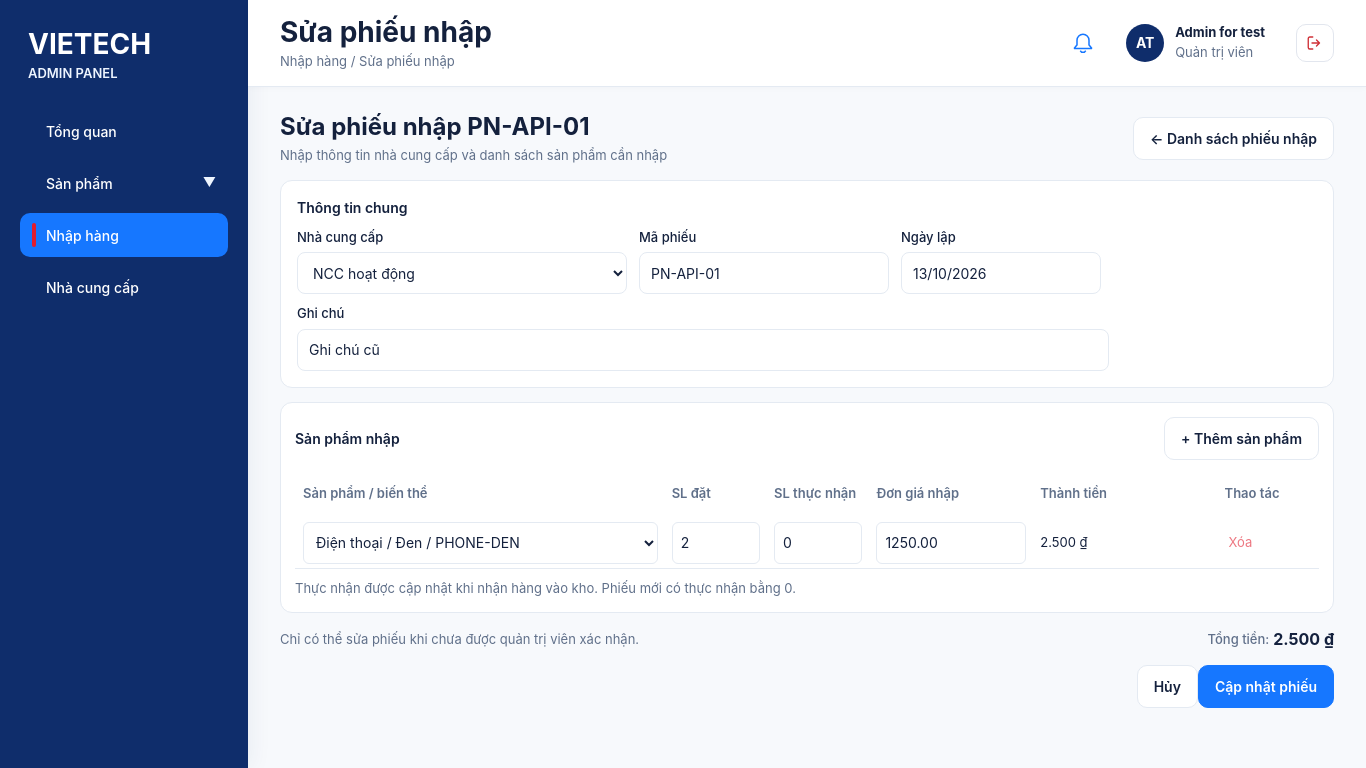
Test: edit uses the stored date; removing/replacing variants stays in the draft until the single update action
Expected: the button "Cập nhật phiếu" is enabled, [1198, 665, 1334, 708]
Expected: the field labelled "Ngày lập" holds "13/10/2026", [901, 252, 1101, 294]
Select "Điện thoại / Trắng / PHONE-TRANG" in the dropdown named "Sản phẩm / biến thể dòng 1" at point(480, 543), box [303, 522, 658, 564]
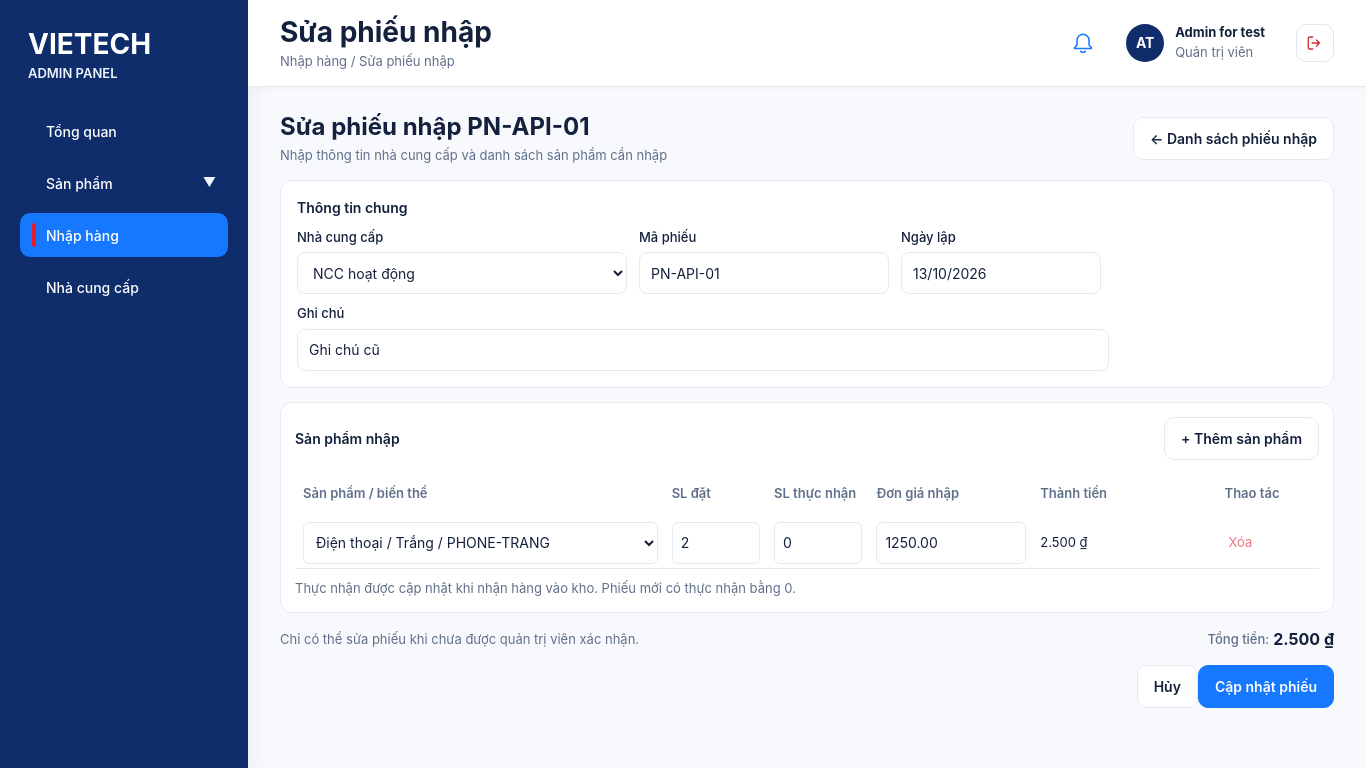
Replace the text in the number field named "Số lượng đặt dòng 1" with "1" at point(716, 543), box [672, 522, 760, 564]
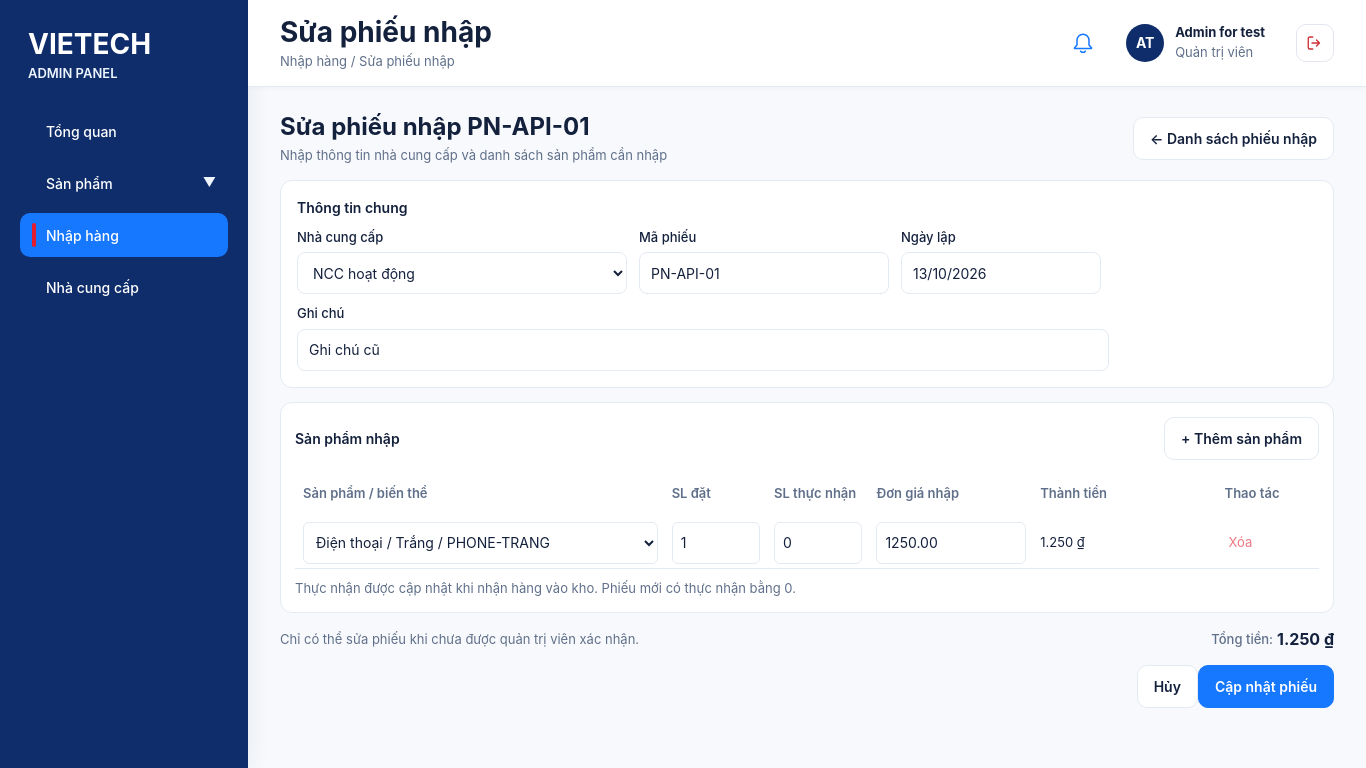
Replace the text in the number field named "Đơn giá nhập dòng 1" with "3200" at point(951, 543), box [876, 522, 1026, 564]
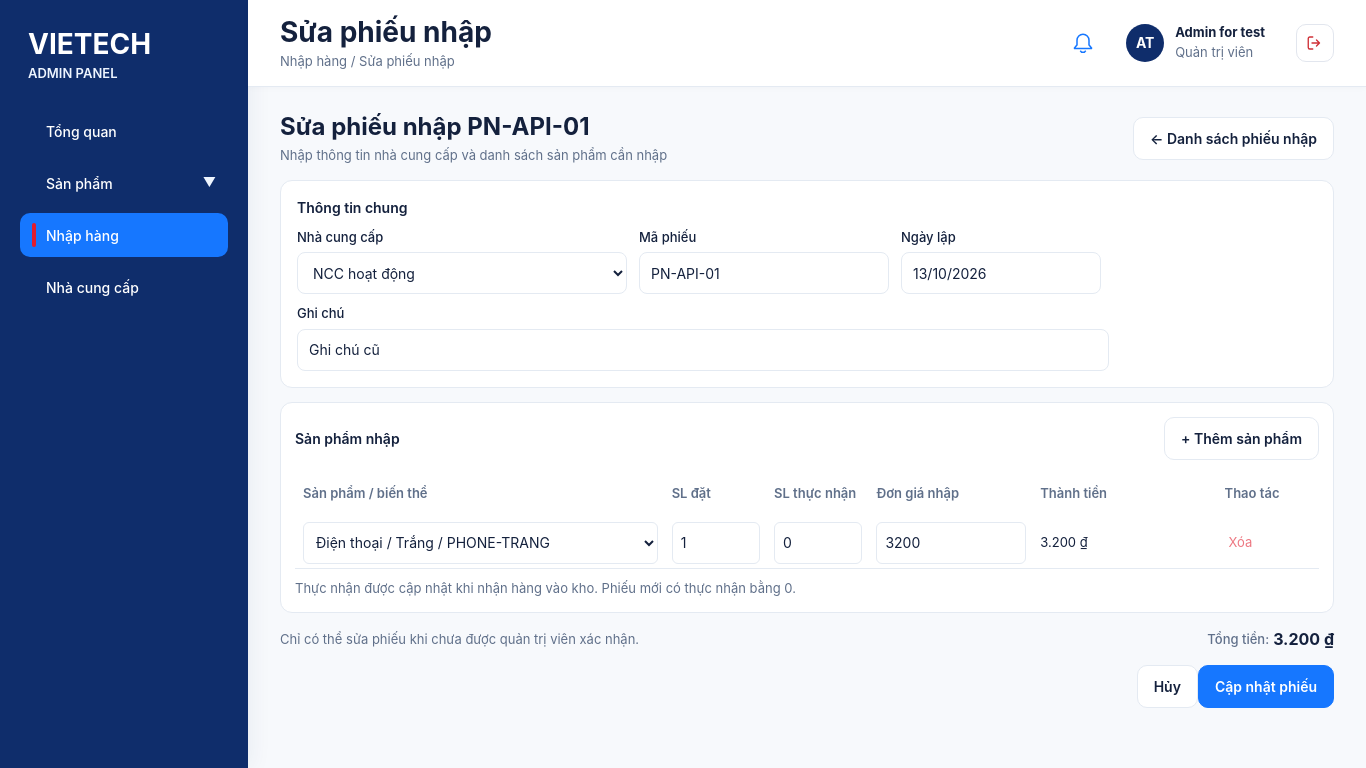
Click the button "Cập nhật phiếu".
click(1266, 687)  # box [1198, 665, 1334, 708]
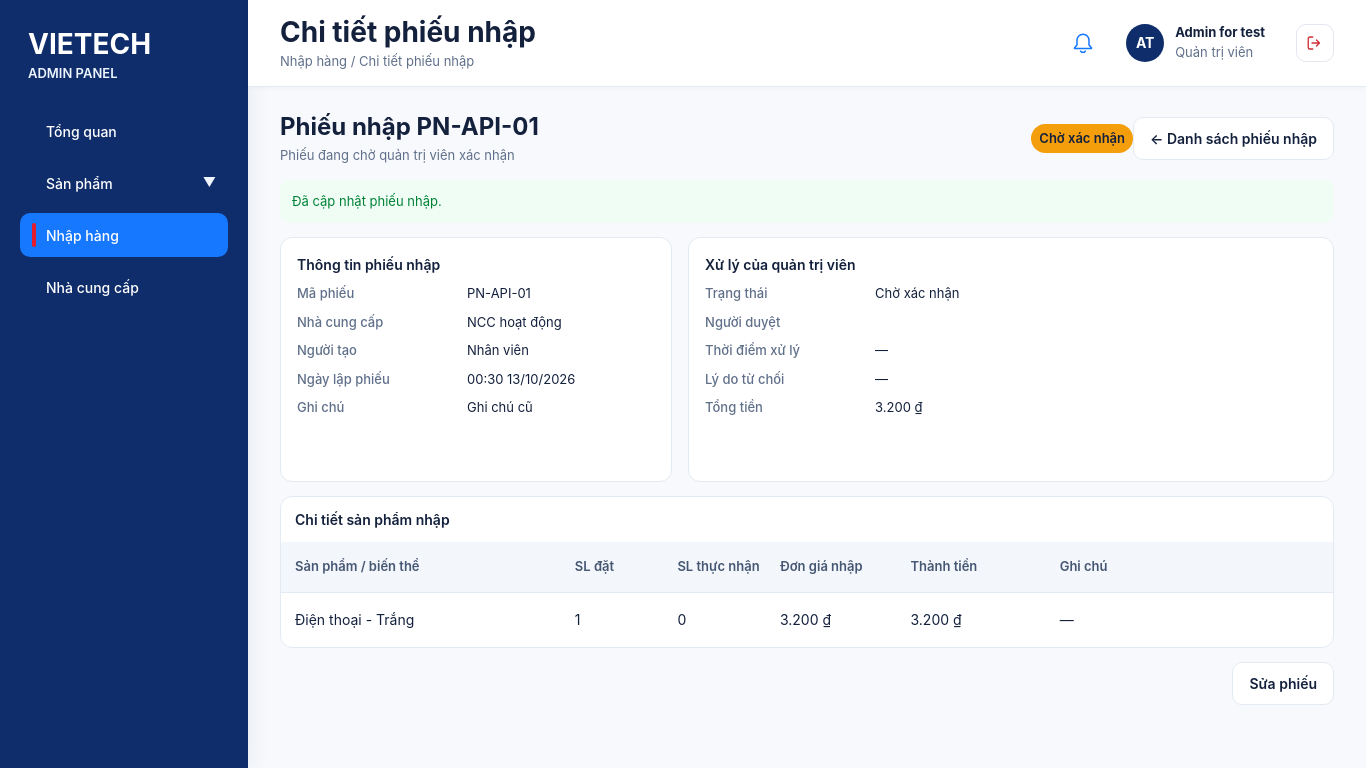
Expected: the text "Đã cập nhật phiếu nhập." is shown, [280, 180, 1334, 223]
